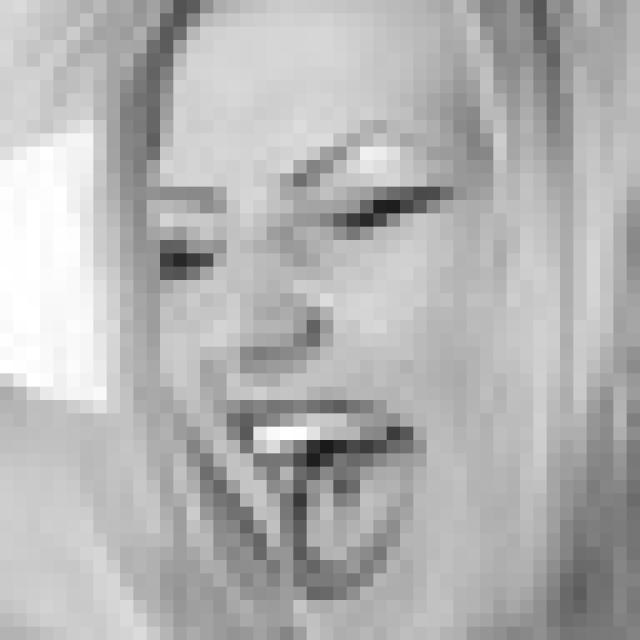angry: (144, 121, 473, 608)
